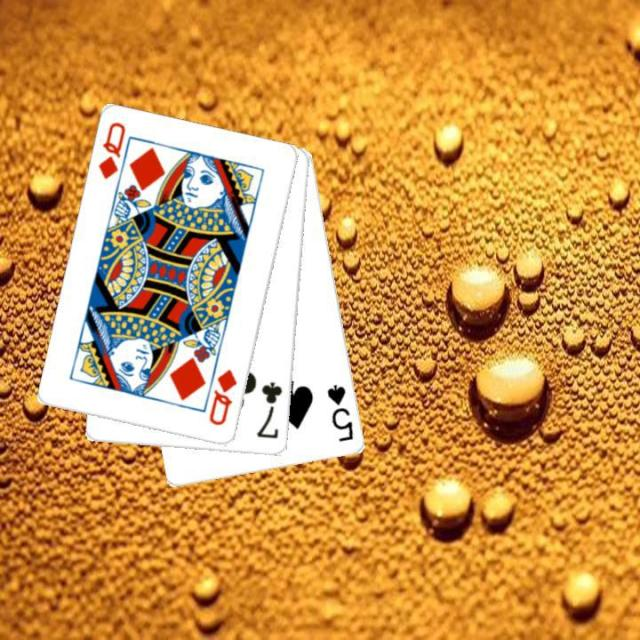5S: (324, 382, 356, 444)
7C: (253, 379, 284, 441)
QD: (94, 118, 128, 182), (205, 366, 239, 428)
